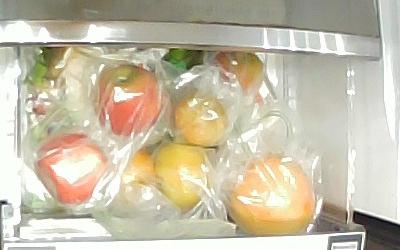apple_vinyl: (93, 62, 165, 137), (35, 132, 110, 204)
grapefruit_vinyl: (224, 153, 315, 236)
persimmon_vinyl: (156, 142, 208, 215), (116, 148, 156, 206)
prune_vinyl: (174, 91, 230, 150), (211, 53, 266, 95)
